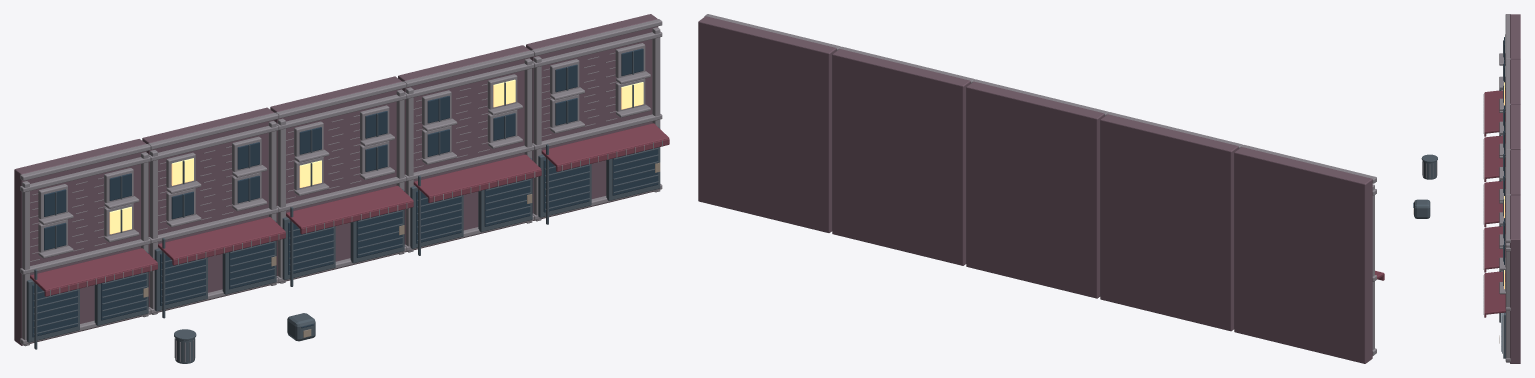
File: street-kit.glb
The picture shows the model from 3 angles, left to right: view 1: azimuth 30°, elevation 25°; view 2: azimuth 150°, elevation 25°; view 3: azimuth 270°, elevation 25°; orthographic projection. The views are drawn at different scales.
Visible parts, largest first — view 1: Weathered limestone, Bruised plum masonry, Dark window glass, Patinated iron, Wine canvas, Occupied windows; view 2: Bruised plum masonry, Weathered limestone; view 3: Wine canvas, Bruised plum masonry, Weathered limestone, Patinated iron, Dark window glass.
Boxes of the visible parts, bbox=[...] form: Weathered limestone: bbox=[20, 19, 662, 362]; Bruised plum masonry: bbox=[14, 14, 658, 345]; Dark window glass: bbox=[32, 48, 658, 337]; Patinated iron: bbox=[26, 51, 660, 363]; Wine canvas: bbox=[30, 123, 669, 296]; Occupied windows: bbox=[109, 79, 643, 234]; Bruised plum masonry: bbox=[698, 16, 1372, 363]; Weathered limestone: bbox=[704, 14, 1376, 355]; Wine canvas: bbox=[1484, 90, 1505, 317]; Bruised plum masonry: bbox=[1510, 14, 1520, 363]; Weathered limestone: bbox=[1422, 14, 1510, 362]; Patinated iron: bbox=[1414, 40, 1505, 358]; Dark window glass: bbox=[1413, 37, 1504, 353].
Bounding box in the file's own units: 21 × 5.4 × 4.21.
